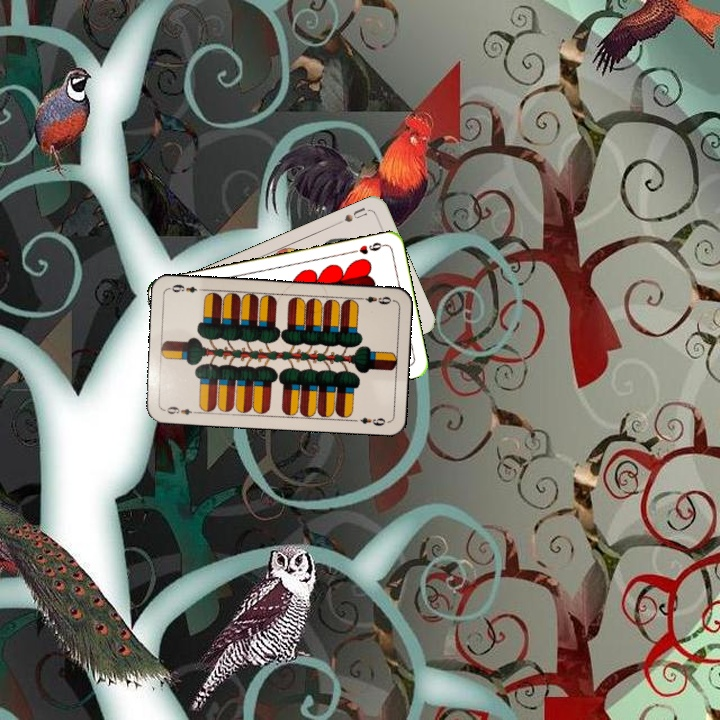E9: (355, 292, 394, 307), (160, 403, 201, 417)
H9: (347, 238, 387, 257)
SU: (333, 203, 370, 227)
